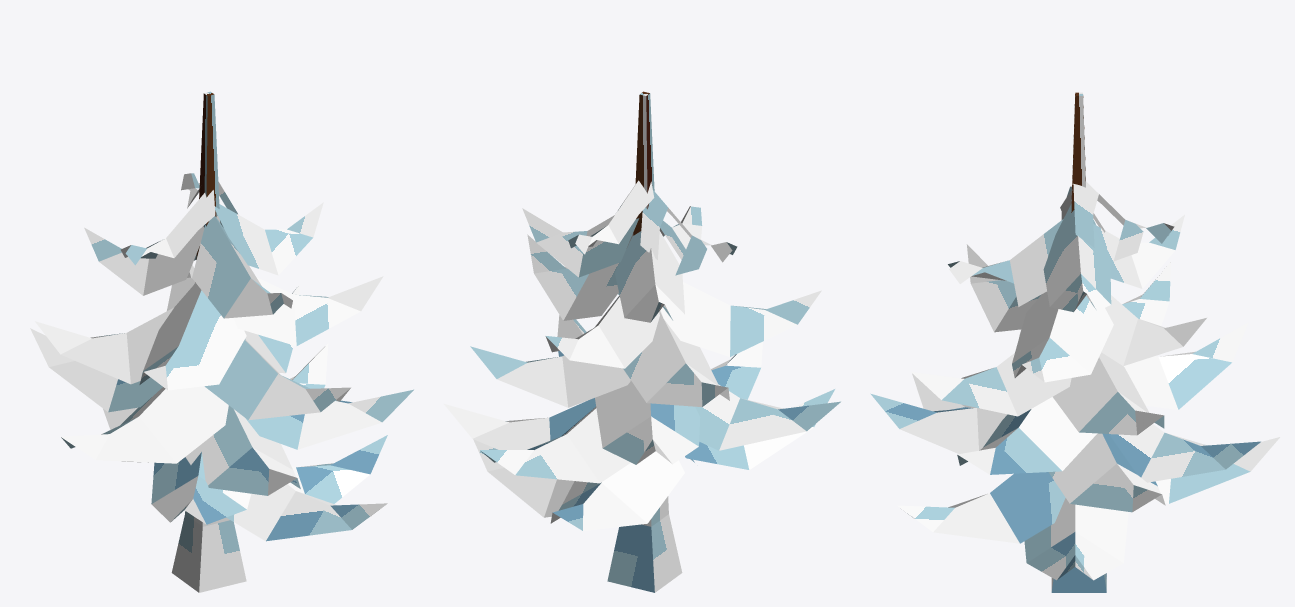
File: spruce1 1.fbx
The picture shows the model from 3 angles, left to right: view 1: azimuth 30°, elevation 25°; view 2: azimuth 150°, elevation 25°; view 3: azimuth 270°, elevation 25°; orthographic projection.
Parts seen in each view (by area): view 1: plane_10, plane_15, stem, plane_9, plane_12, plane_20, plane_3, plane_16, plane_8, plane_14, plane_4, plane_19 (+7 smaller); view 2: plane_5, stem, plane_11, plane_15, plane_14, plane_6, plane_13, plane_10, plane_18, plane_17, plane_16, plane_7 (+7 smaller); view 3: plane_3, plane_16, plane_8, plane_1, plane_13, plane_7, plane_11, plane_19, plane_12, plane_6, plane_9, plane_17 (+8 smaller).
Part boxes in pixels (bbox=[...]): plane_10: bbox=[61, 386, 228, 463]; plane_15: bbox=[139, 283, 246, 390]; stem: bbox=[171, 91, 246, 592]; plane_9: bbox=[185, 405, 300, 495]; plane_12: bbox=[204, 339, 350, 420]; plane_20: bbox=[192, 216, 292, 318]; plane_3: bbox=[226, 484, 387, 541]; plane_16: bbox=[234, 276, 383, 346]; plane_8: bbox=[245, 389, 413, 449]; plane_14: bbox=[35, 307, 173, 384]; plane_4: bbox=[151, 452, 250, 524]; plane_19: bbox=[215, 202, 323, 275]; plane_5: bbox=[550, 451, 684, 530]; stem: bbox=[607, 91, 682, 592]; plane_11: bbox=[595, 380, 700, 464]; plane_15: bbox=[660, 282, 821, 356]; plane_14: bbox=[623, 310, 729, 406]; plane_6: bbox=[480, 406, 630, 483]; plane_13: bbox=[470, 346, 630, 407]; plane_10: bbox=[695, 384, 840, 450]; plane_18: bbox=[615, 231, 684, 322]; plane_17: bbox=[545, 295, 659, 368]; plane_16: bbox=[527, 234, 619, 320]; plane_7: bbox=[444, 398, 595, 449]; plane_3: bbox=[897, 472, 1065, 543]; plane_16: bbox=[1012, 291, 1113, 382]; plane_8: bbox=[957, 397, 1097, 474]; plane_1: bbox=[1024, 498, 1128, 580]; plane_13: bbox=[1053, 352, 1164, 435]; plane_7: bbox=[1048, 433, 1165, 512]; plane_11: bbox=[1124, 322, 1248, 409]; plane_19: bbox=[1043, 203, 1111, 312]; plane_12: bbox=[911, 353, 1071, 416]; plane_6: bbox=[1109, 424, 1260, 482]; plane_9: bbox=[870, 393, 1007, 453]; plane_17: bbox=[1101, 295, 1206, 366].
Size of the model in its own units: 643 by 990 by 650.
Materials: 1 (1 with a texture image).
